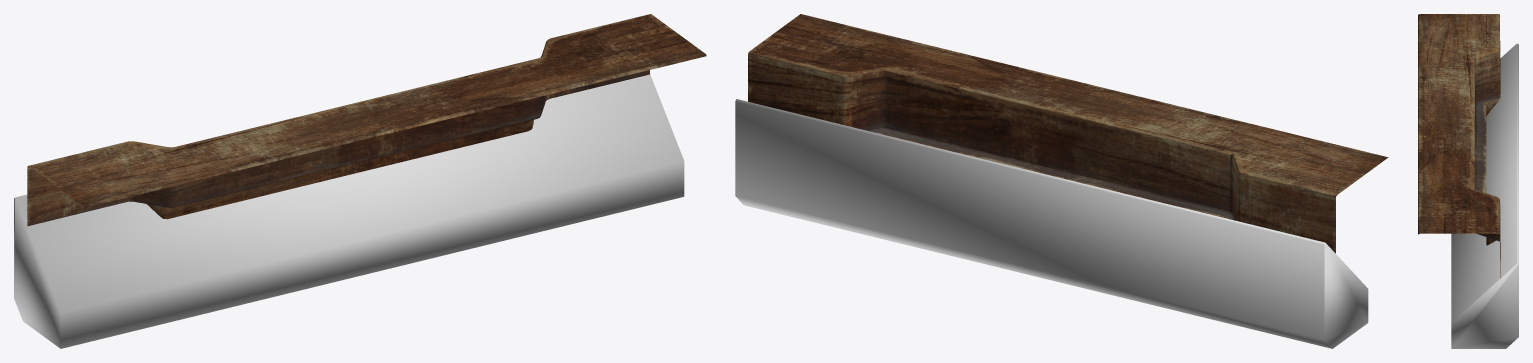
File: SM_Bar_Baked_SM_E.fbx
The picture shows the model from 3 angles, left to right: view 1: azimuth 30°, elevation 25°; view 2: azimuth 150°, elevation 25°; view 3: azimuth 270°, elevation 25°; orthographic projection. The views are drawn at different scales.
Parts seen in each view (by area): view 1: SM_Bar_Baked_SM_E_ConvexHulls, SM_Bar_Baked_SM_E; view 2: SM_Bar_Baked_SM_E_ConvexHulls, SM_Bar_Baked_SM_E; view 3: SM_Bar_Baked_SM_E, SM_Bar_Baked_SM_E_ConvexHulls.
Boxes of the visible parts, bbox=[...] form: SM_Bar_Baked_SM_E_ConvexHulls: bbox=[14, 74, 684, 348]; SM_Bar_Baked_SM_E: bbox=[27, 14, 706, 226]; SM_Bar_Baked_SM_E_ConvexHulls: bbox=[735, 99, 1368, 348]; SM_Bar_Baked_SM_E: bbox=[748, 14, 1388, 253]; SM_Bar_Baked_SM_E: bbox=[1418, 14, 1500, 277]; SM_Bar_Baked_SM_E_ConvexHulls: bbox=[1451, 43, 1518, 348].
Bounding box in the file's own units: 1.3 × 0.3164 × 0.2517.
